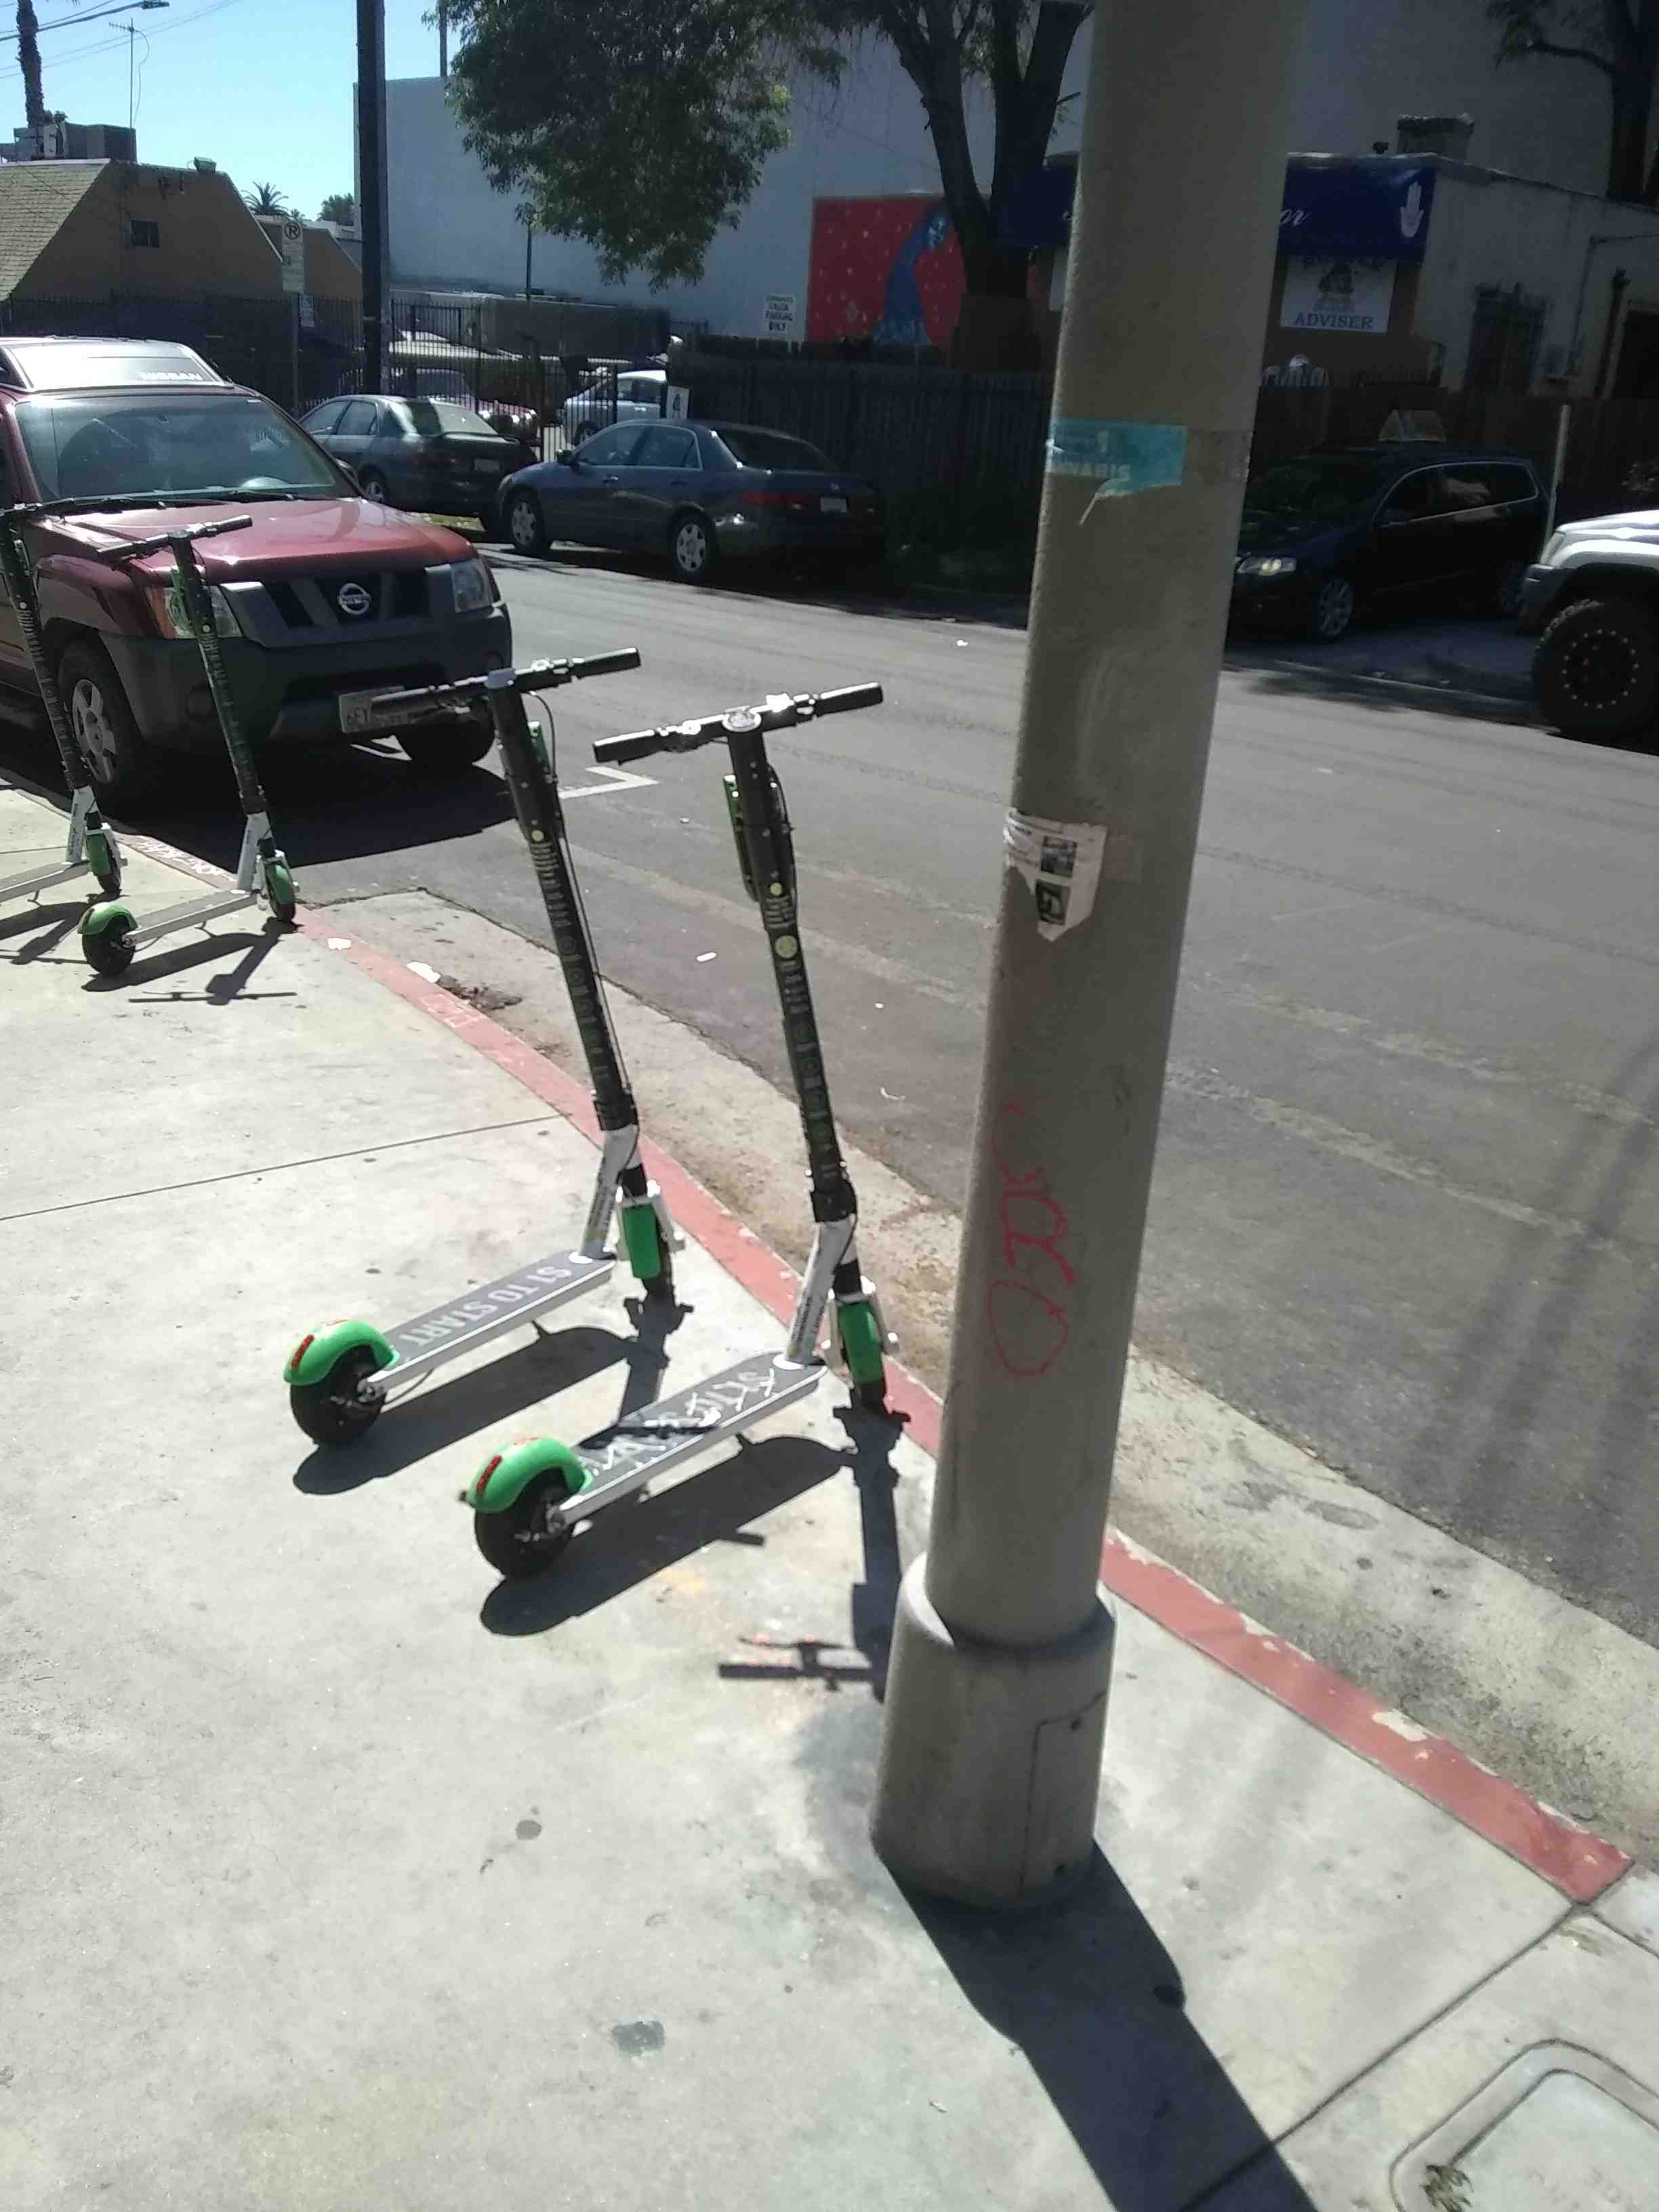too close: (735, 1219, 955, 1447)
